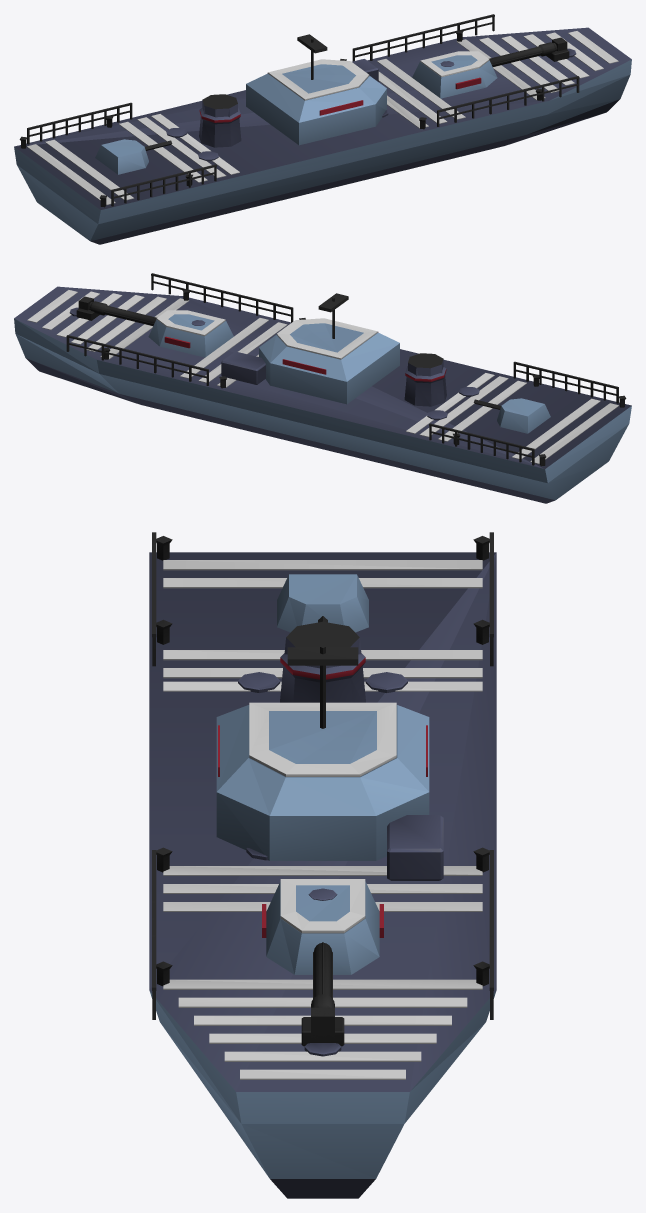
Rendered from veyran_gunboat.glb.
The picture shows the model from 3 angles, top to bottom: view 1: azimuth 30°, elevation 25°; view 2: azimuth 150°, elevation 25°; view 3: azimuth 270°, elevation 25°; orthographic projection. The views are drawn at different scales.
Parts seen in each view (by area): view 1: hull, turret, barrel; view 2: hull, turret, barrel; view 3: hull, turret, barrel.
Part boxes in pixels (x1,y1,x2,y2): hull: (14, 14, 631, 244); turret: (412, 51, 497, 98); barrel: (489, 38, 566, 66); hull: (14, 273, 631, 503); turret: (148, 310, 233, 357); barrel: (79, 297, 156, 325); hull: (149, 532, 496, 1198); turret: (262, 879, 383, 974); barrel: (311, 943, 334, 1036).
Bounding box in the file's own units: 18 × 4.25 × 4.9.
